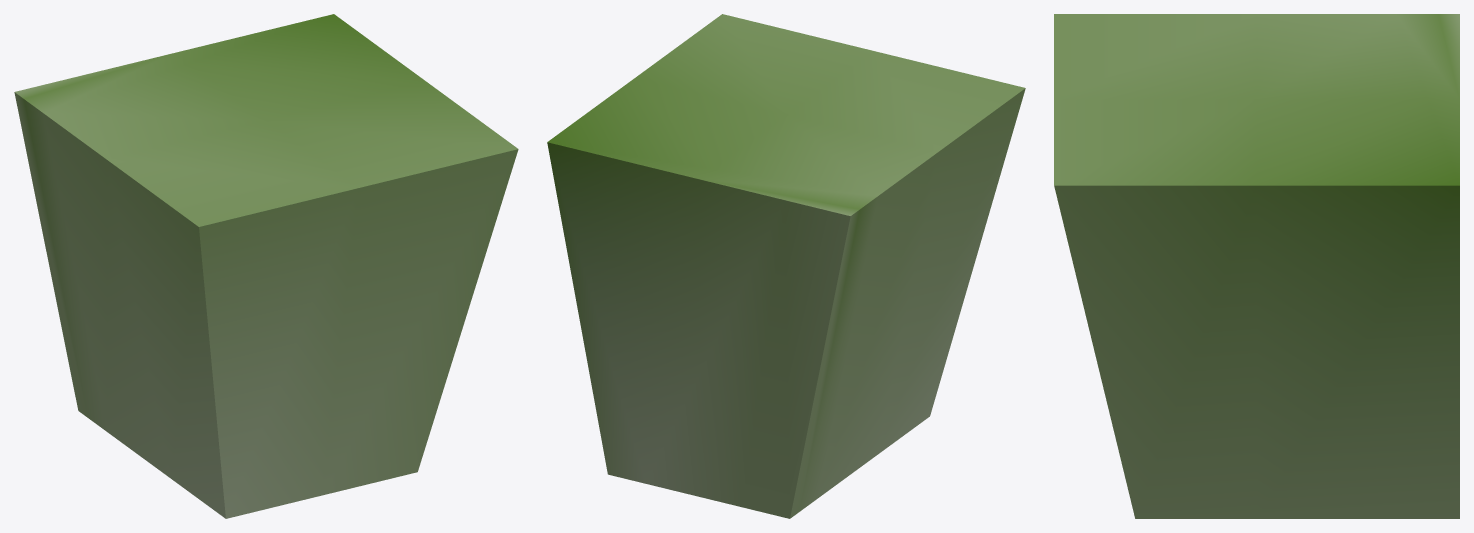
Rendered from T0DirR.fbx.
3 views of the same model, side by side, from view 1: azimuth 30°, elevation 25°; view 2: azimuth 150°, elevation 25°; view 3: azimuth 270°, elevation 25° (orthographic). The views are drawn at different scales.
Parts seen in each view (by area): view 1: 3, 1, 4, 2; view 2: 4, 2, 3, 1; view 3: 2, 1, 3, 4.
Part boxes in pixels (<box>): 3: <box>107,120,358,518</box>; 1: <box>267,81,518,495</box>; 4: <box>14,53,265,477</box>; 2: <box>174,14,425,120</box>; 4: <box>699,115,937,518</box>; 2: <box>547,78,785,496</box>; 3: <box>787,51,1025,454</box>; 1: <box>635,14,873,114</box>; 2: <box>1257,99,1459,518</box>; 1: <box>1054,99,1256,518</box>; 3: <box>1054,14,1256,99</box>; 4: <box>1257,14,1459,99</box>.
Bounding box in the file's own units: 200 × 200 × 200.
